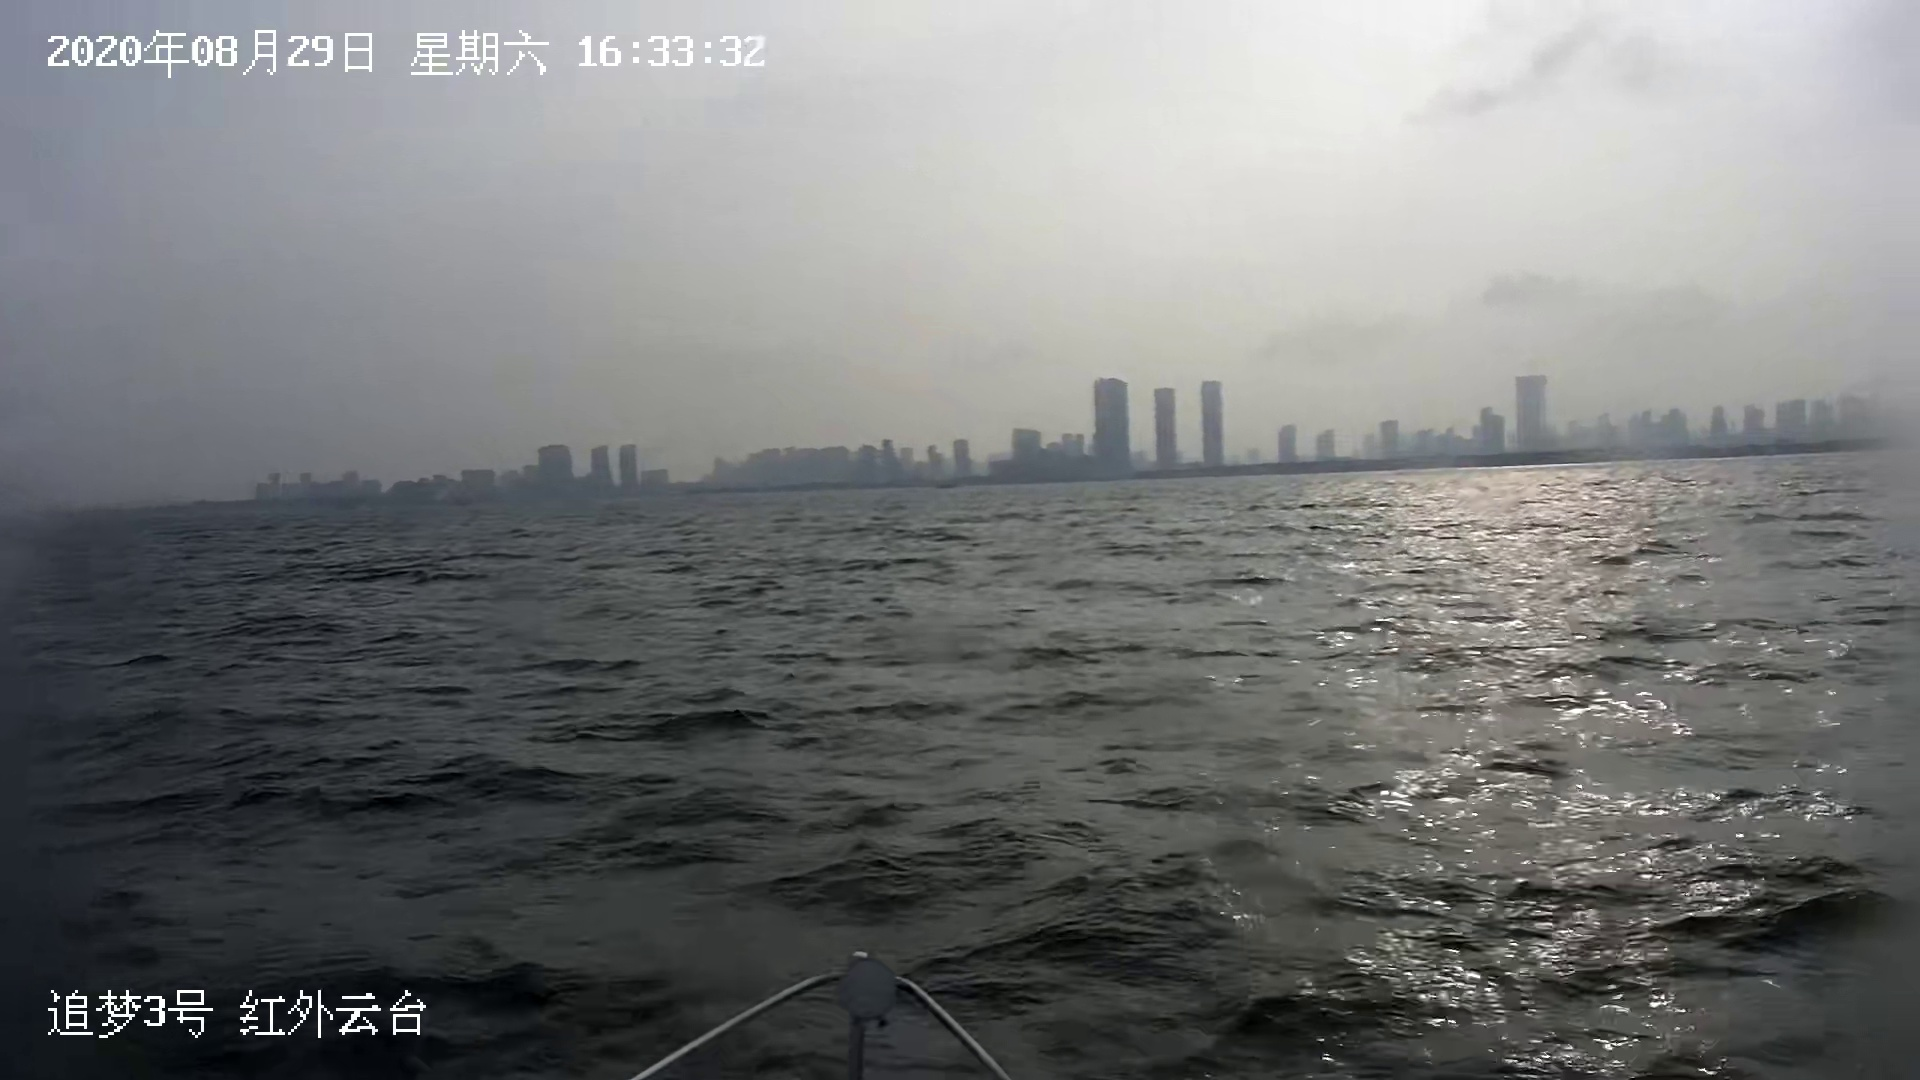coast: (29, 371, 1919, 525)
